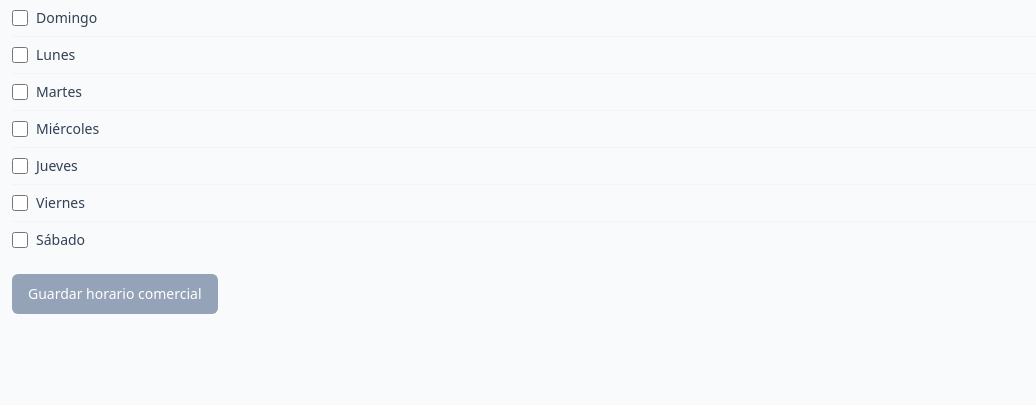
Test case: BusinessHoursForm › sends only the enabled days, as the whole-array replace the backend expects
Click the checkbox labelled "Lunes".
click(20, 55)  # box [12, 47, 28, 63]
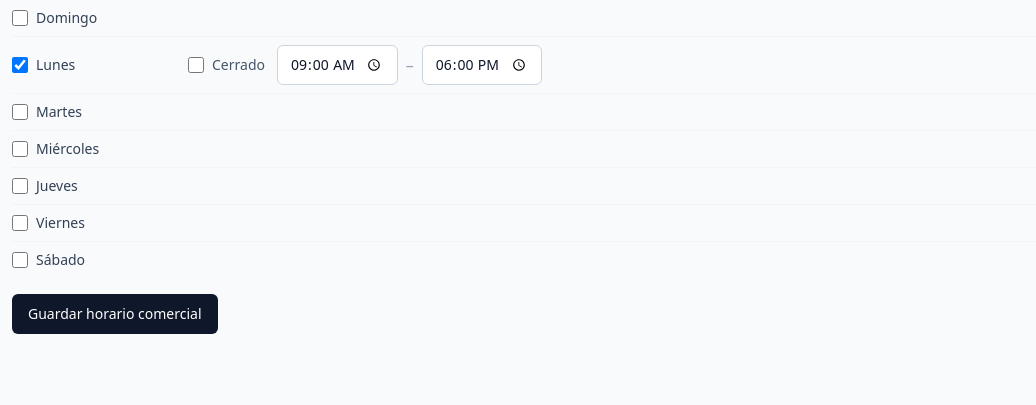
Click the button "Guardar horario comercial".
click(115, 314)  # box [12, 294, 218, 334]
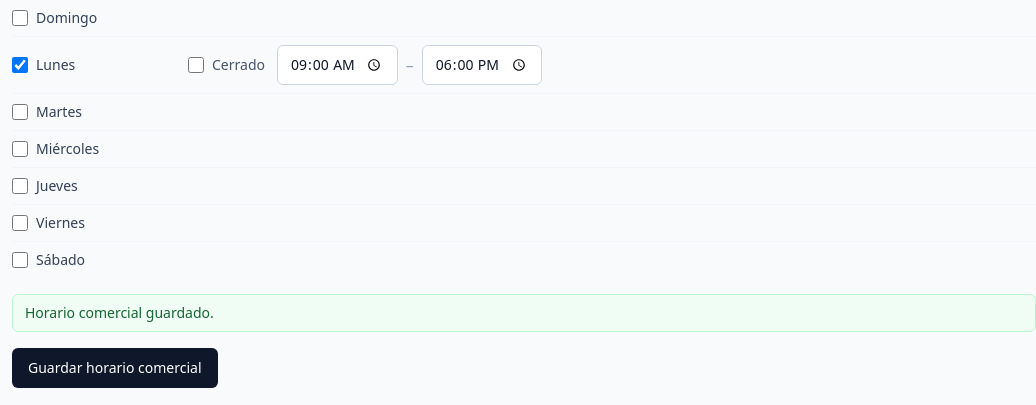
Check: the text "Horario comercial guardado." is shown, box [25, 303, 214, 322]
